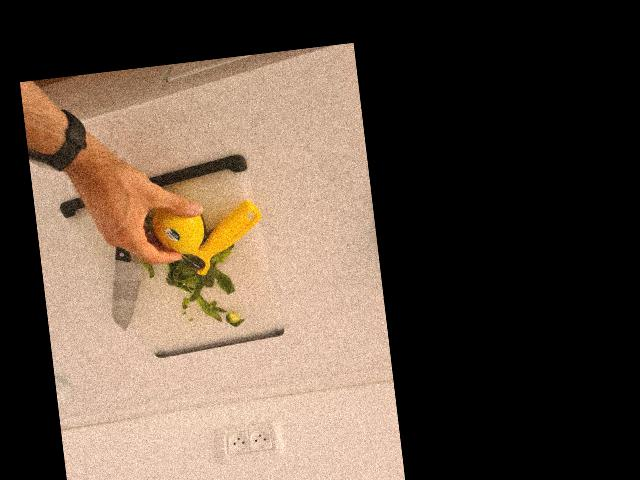lemon: (148, 198, 207, 255)
